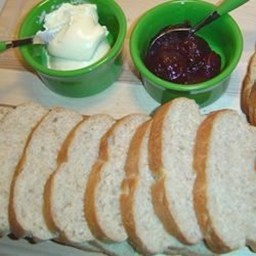background: (0, 20, 102, 102), (31, 8, 88, 34), (13, 0, 44, 28)
